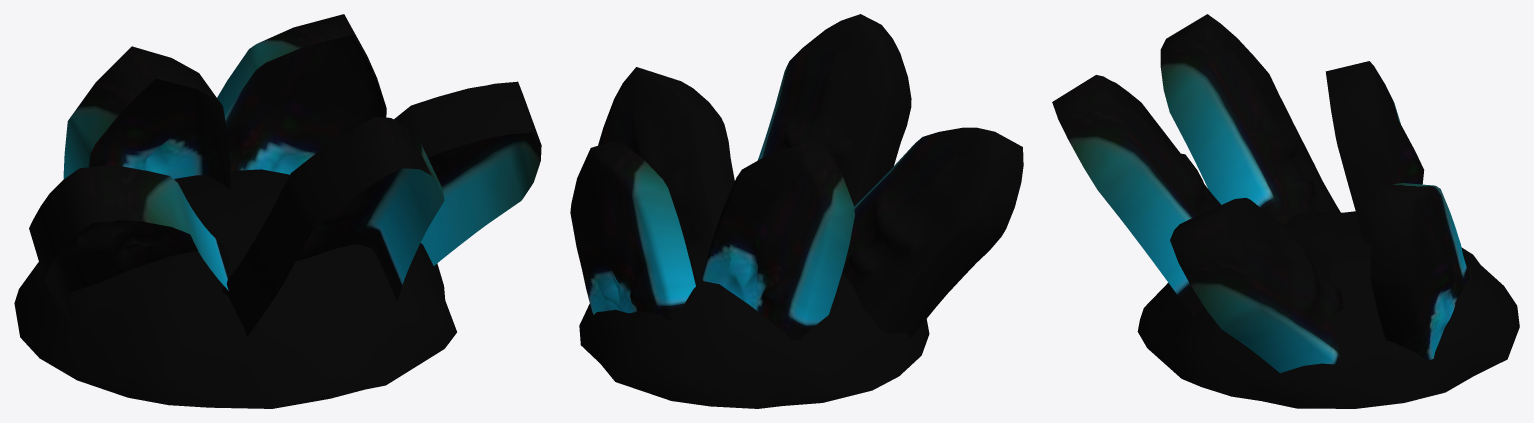
Rendered from skeleton-party.glb.
3 renders of one model, left to right at view 1: azimuth 30°, elevation 25°; view 2: azimuth 150°, elevation 25°; view 3: azimuth 270°, elevation 25°, orthographic. The views are drawn at different scales.
Visible parts, largest first — view 1: skeleton-party; view 2: skeleton-party; view 3: skeleton-party.
Part boxes in pixels (x1,y1,x2,y2): skeleton-party: (14, 14, 541, 408); skeleton-party: (570, 14, 1023, 408); skeleton-party: (1052, 14, 1519, 408).
Size of the model in its own units: 4.77 by 2.93 by 4.59.
Materials: 1 (1 with a texture image).
